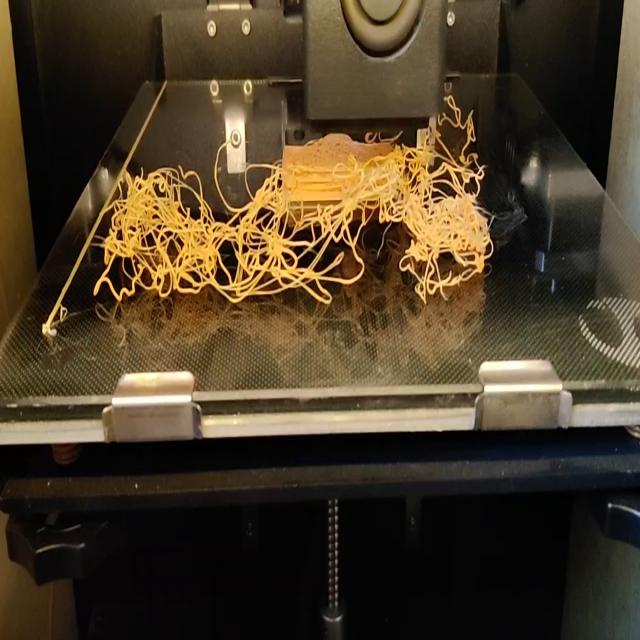spaghetti: (89, 125, 495, 303), (445, 92, 473, 122)
